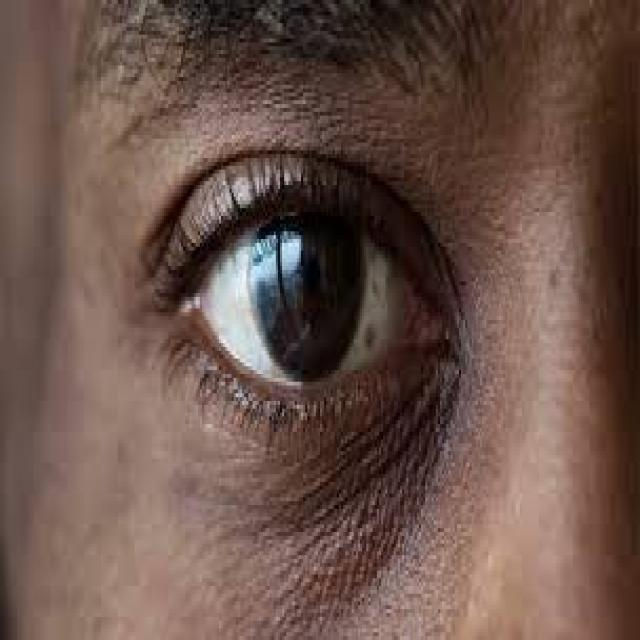Normal: (81, 142, 532, 465)
